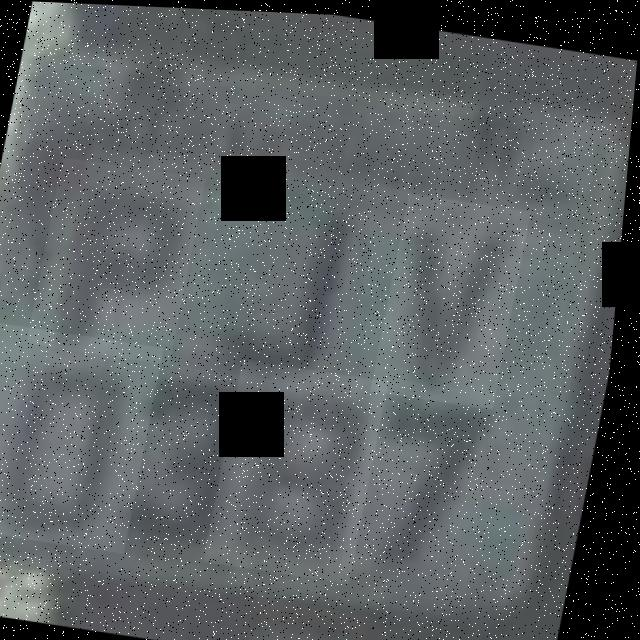0: (0, 322, 171, 552)
3: (77, 333, 282, 568)
7: (346, 371, 511, 600)
8: (212, 356, 396, 580)
J: (193, 179, 394, 389)
P: (32, 155, 210, 363)
V: (376, 188, 535, 405)
